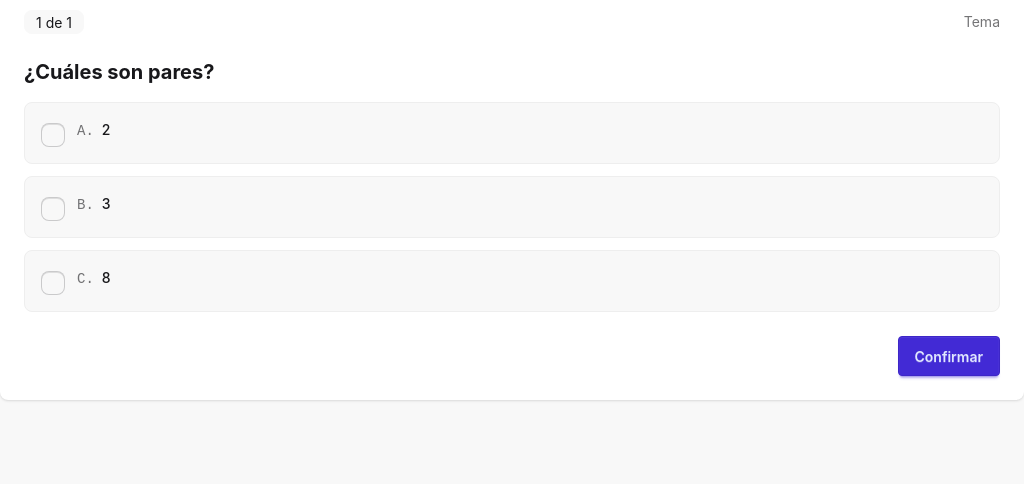
Test: multiple choice › needs Confirmar before it shows explanations
Click the checkbox labelled "2" at (53, 135), box [41,123,65,147]
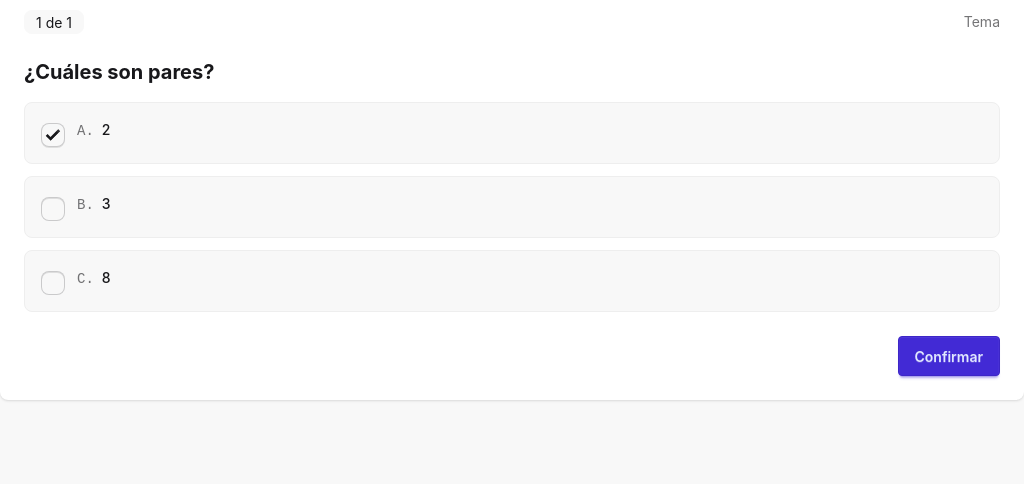
Click the checkbox labelled "8" at (53, 283), box [41,271,65,295]
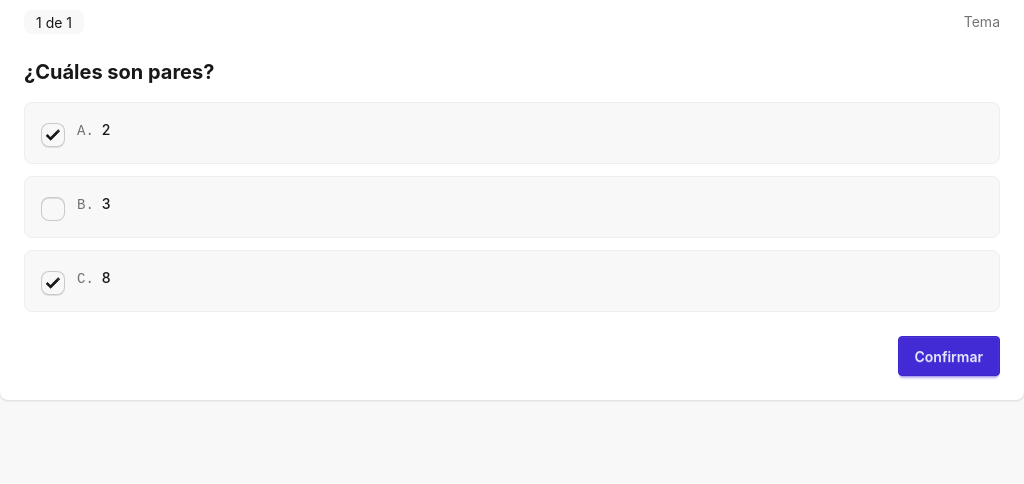
Check: the text "2 es par." is not shown
Check: the button "Siguiente" is not shown
Click the button "Confirmar" at (949, 356), box [898,336,1000,376]
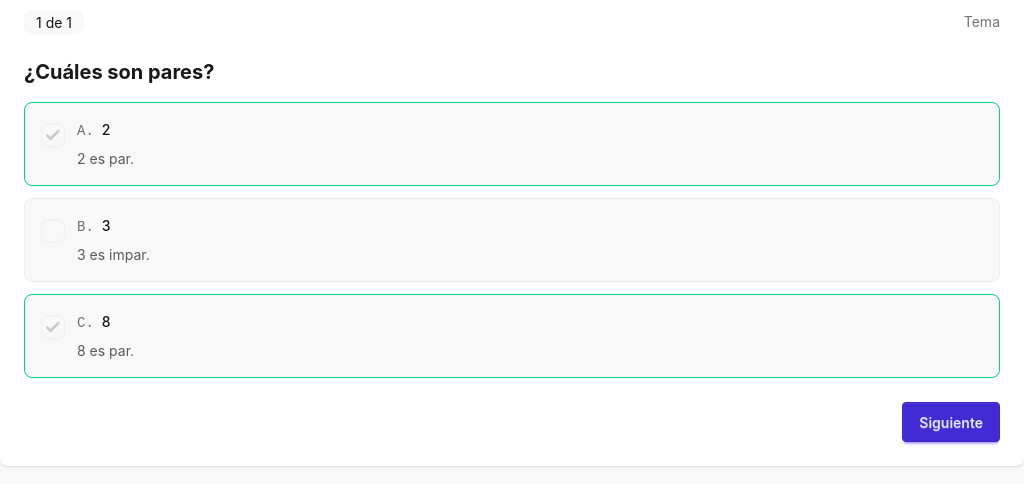
Check: the text "2 es par." is shown, box [77,150,134,167]
Check: the text "3 es impar." is shown, box [77,246,150,263]
Check: the text "8 es par." is shown, box [77,342,134,359]
